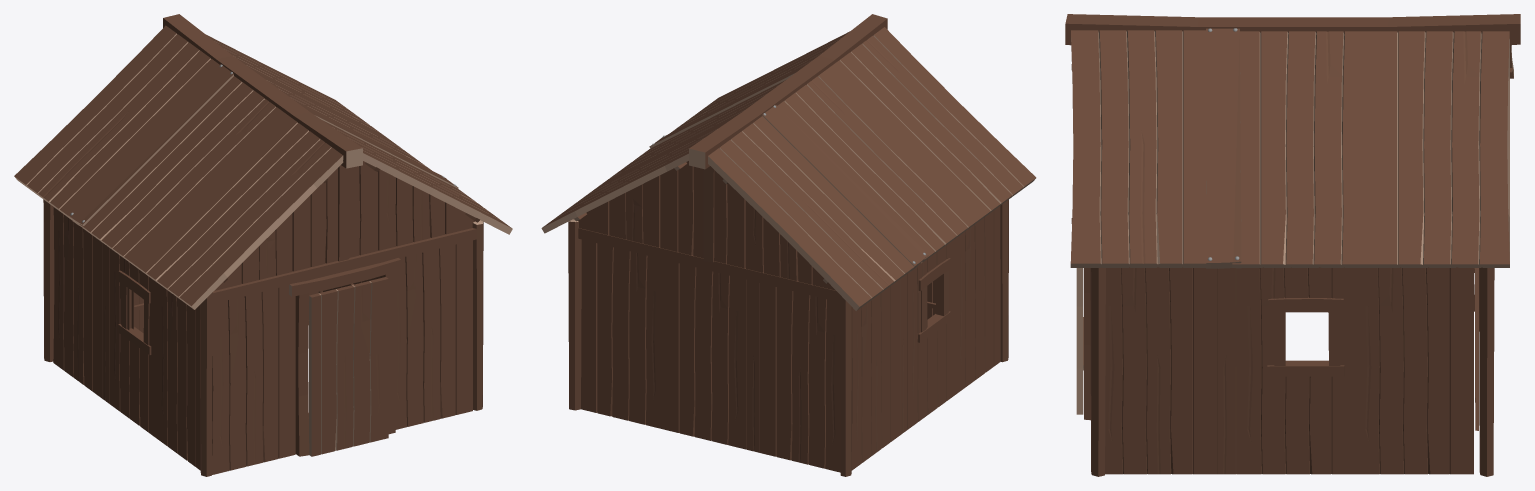
File: SwampHut.fbx
3 views of the same model, side by side, from view 1: azimuth 30°, elevation 25°; view 2: azimuth 150°, elevation 25°; view 3: azimuth 270°, elevation 25° (orthographic). The views are drawn at different scales.
Visible parts, largest first — view 1: SwampHut_walls, SwampHut_roof, SwampHut_poles, SwampHut_roof_front, SwampHut_door, SwampHut_roof_planks; view 2: SwampHut_walls, SwampHut_roof, SwampHut_poles, SwampHut_roof_front, SwampHut_roof_planks; view 3: SwampHut_roof, SwampHut_walls, SwampHut_poles, SwampHut_roof_planks, SwampHut_door.
Part boxes in pixels (x1=…): SwampHut_walls: x1=53, y1=207, x2=472, y2=474; SwampHut_roof: x1=14, y1=25, x2=512, y2=309; SwampHut_poles: x1=43, y1=14, x2=483, y2=476; SwampHut_roof_front: x1=214, y1=161, x2=474, y2=290; SwampHut_door: x1=308, y1=277, x2=388, y2=456; SwampHut_roof_planks: x1=68, y1=64, x2=458, y2=226; SwampHut_walls: x1=581, y1=206, x2=1000, y2=472; SwampHut_roof: x1=541, y1=27, x2=1036, y2=310; SwampHut_poles: x1=568, y1=14, x2=1008, y2=476; SwampHut_roof_front: x1=573, y1=161, x2=835, y2=290; SwampHut_roof_planks: x1=649, y1=64, x2=928, y2=271; SwampHut_roof: x1=1070, y1=30, x2=1513, y2=267; SwampHut_walls: x1=1105, y1=267, x2=1478, y2=474; SwampHut_poles: x1=1065, y1=14, x2=1520, y2=476; SwampHut_roof_planks: x1=1206, y1=28, x2=1241, y2=268; SwampHut_door: x1=1076, y1=268, x2=1083, y2=414.
Size of the model in its own units: 3.5 by 3.13 by 3.46.
